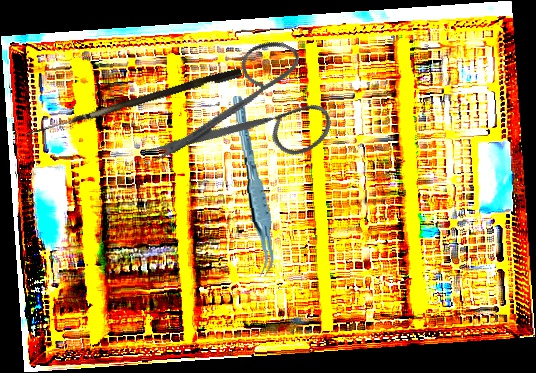Hook Surgical: (25, 63, 243, 146)
Iris Scissors: (143, 10, 356, 229)
Tissue Forceps: (231, 94, 277, 278)
